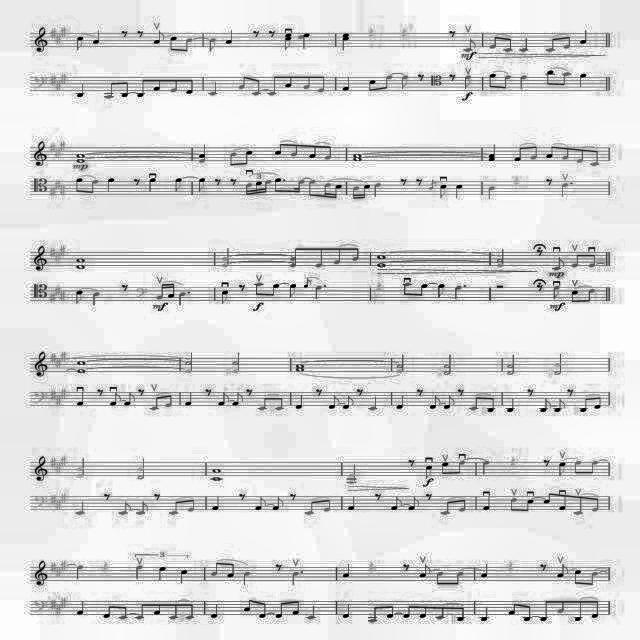Eighth-note: (284, 28, 294, 56), (543, 68, 557, 88), (544, 32, 556, 54), (462, 36, 476, 54), (154, 31, 166, 49), (488, 35, 499, 53), (367, 79, 378, 97), (502, 36, 514, 52), (488, 74, 500, 90), (318, 75, 326, 99), (75, 34, 85, 52), (169, 36, 179, 54), (401, 74, 411, 92), (186, 36, 194, 56), (564, 70, 572, 90), (462, 74, 472, 90), (386, 74, 394, 94), (504, 73, 512, 91), (564, 34, 572, 50)
Eighth-rest: (253, 28, 261, 40), (449, 29, 457, 39), (449, 73, 457, 83), (418, 74, 427, 82), (138, 28, 146, 36), (269, 31, 277, 39), (122, 29, 126, 39)
Quarter-note: (296, 32, 312, 54), (341, 30, 351, 56), (578, 70, 590, 90), (342, 75, 354, 93), (517, 36, 527, 54), (226, 30, 234, 50), (580, 30, 588, 50), (92, 29, 100, 47), (520, 72, 528, 90)
Quarter-rest: (368, 29, 376, 43), (400, 28, 408, 40)
Treble-clef: (34, 23, 50, 61), (210, 38, 218, 56), (206, 34, 212, 38)
